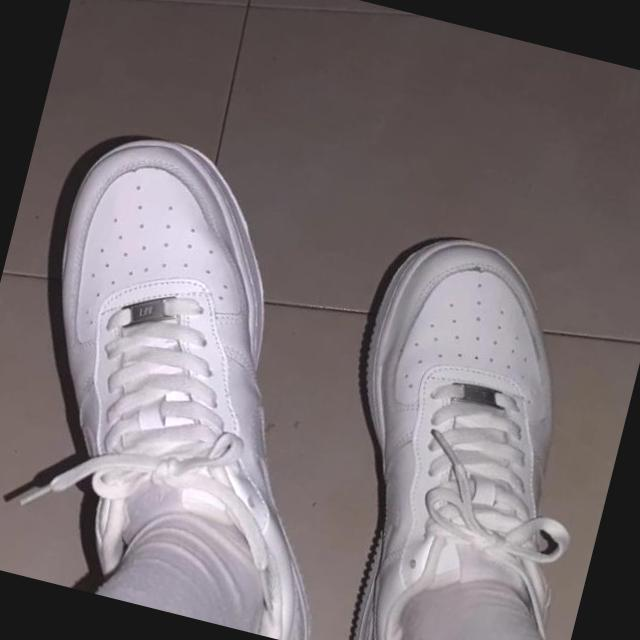nike_fake_airforce: (0, 115, 417, 640), (286, 214, 640, 640)
